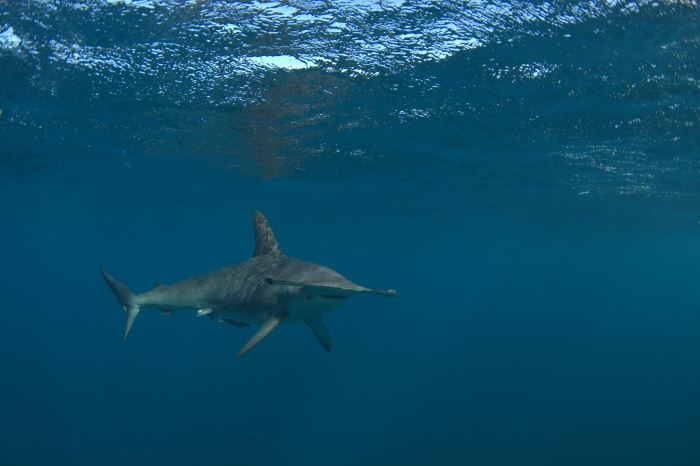Hammer: (70, 165, 426, 389)
